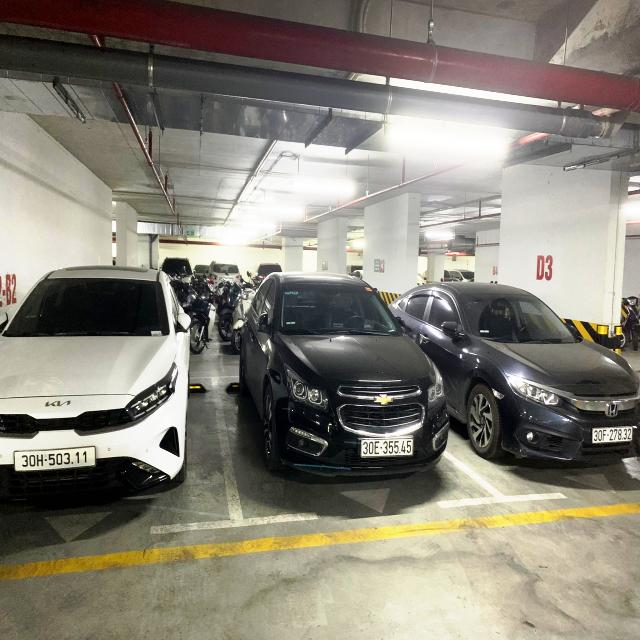license_plate: (15, 447, 98, 472), (362, 439, 414, 458), (594, 427, 633, 444)
